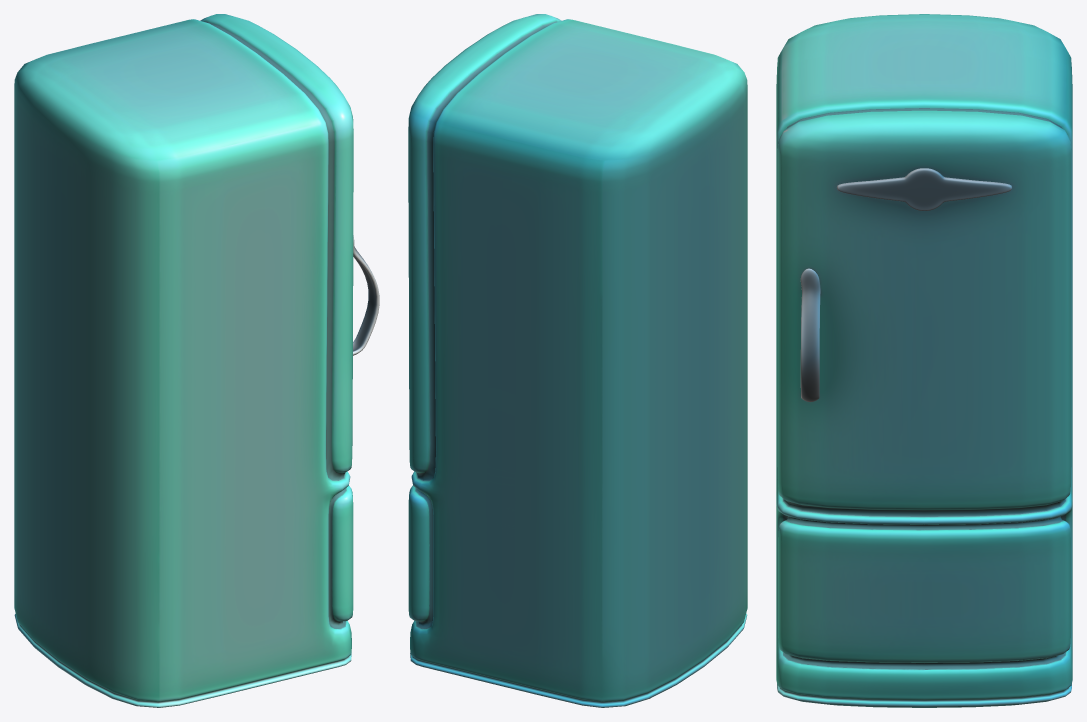
Rendered from Fridge_Final.fbx.
3 renders of one model, left to right at view 1: azimuth 30°, elevation 25°; view 2: azimuth 150°, elevation 25°; view 3: azimuth 270°, elevation 25°, orthographic. The views are drawn at different scales.
Parts seen in each view (by area): view 1: Cube; view 2: Cube; view 3: Cube.
Part boxes in pixels (x1,y1,x2,y2): Cube: [14, 14, 379, 707]; Cube: [408, 14, 747, 707]; Cube: [776, 14, 1072, 707].
Size of the model in its own units: 211 by 437 by 200.
